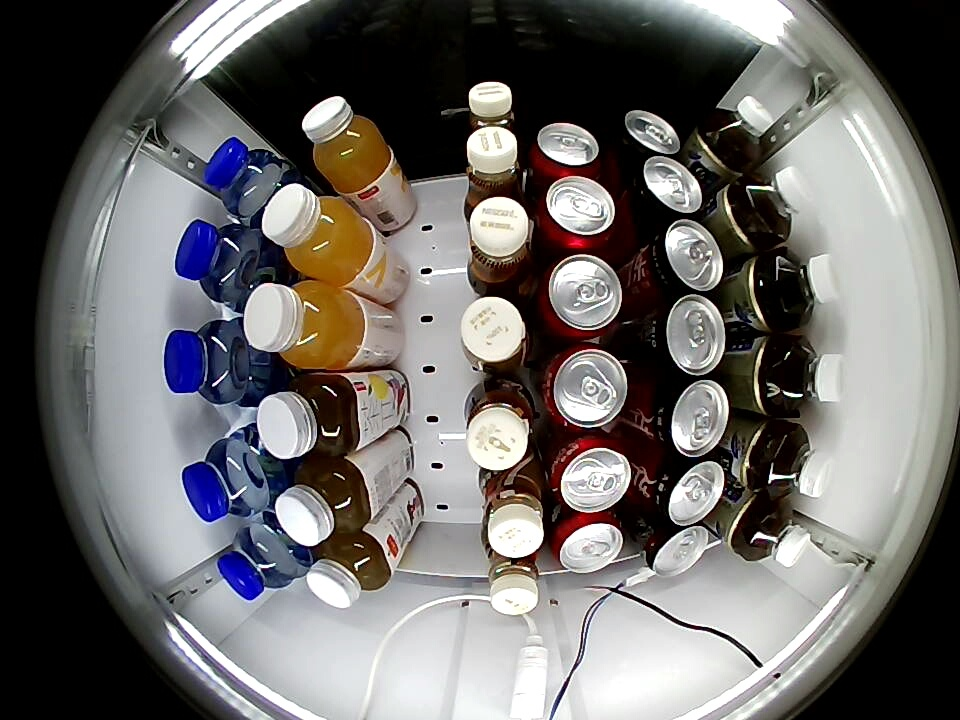chapai: (256, 373, 360, 459), (274, 456, 373, 546), (306, 531, 393, 608)
kafei: (465, 197, 538, 302), (464, 376, 540, 471), (477, 458, 548, 559), (460, 296, 534, 377), (463, 127, 526, 215), (482, 538, 543, 615), (466, 82, 520, 146)
kele: (541, 345, 629, 431), (538, 254, 623, 341), (550, 435, 633, 513), (538, 176, 617, 250), (551, 512, 625, 574), (530, 122, 602, 178)
lingdukele: (640, 295, 728, 376), (647, 377, 731, 456), (642, 220, 725, 295), (646, 454, 728, 526), (625, 156, 706, 226), (638, 519, 714, 577), (615, 110, 683, 164)
maidong: (181, 434, 275, 523), (163, 319, 255, 405), (215, 518, 309, 602), (203, 137, 292, 222), (174, 220, 264, 304)
weic: (262, 185, 377, 286), (243, 281, 363, 370), (302, 96, 394, 193)
wulongcha: (698, 95, 778, 170), (772, 336, 846, 414), (763, 425, 836, 498), (773, 251, 841, 329), (742, 167, 812, 240), (740, 500, 813, 567)
